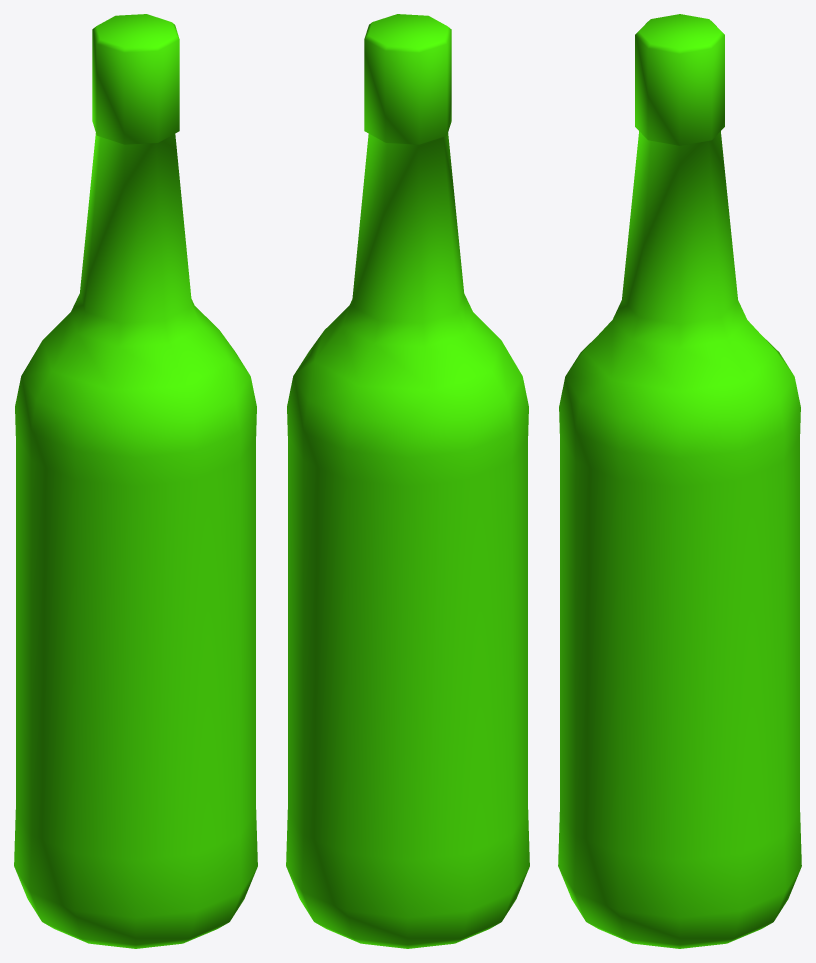
The model's file is 20_whiskey_jameson.gltf.
The picture shows the model from 3 angles, left to right: view 1: azimuth 30°, elevation 25°; view 2: azimuth 150°, elevation 25°; view 3: azimuth 270°, elevation 25°; orthographic projection.
Visible parts, largest first — view 1: Jameson_Atlas_0; view 2: Jameson_Atlas_0; view 3: Jameson_Atlas_0.
Part boxes in pixels (x1,y1,x2,y2): Jameson_Atlas_0: [14, 14, 257, 948]; Jameson_Atlas_0: [286, 14, 529, 948]; Jameson_Atlas_0: [558, 14, 801, 948].
Size of the model in its own units: 7.39 by 29.36 by 7.39.
Materials: 1 (1 with a texture image).
